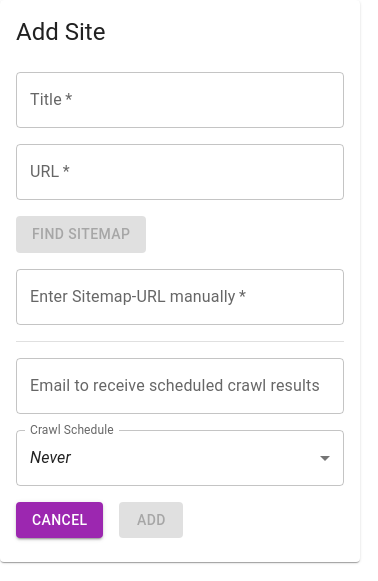
Test: SiteForm Component › enables Add button when form is valid
Type "New Site" into the field labelled "Title *". click: (180, 100)
box: [16, 72, 344, 128]
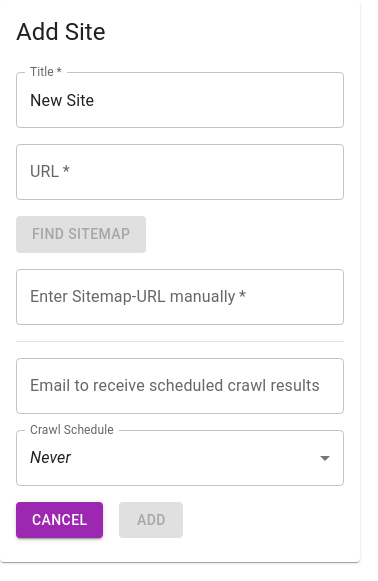
Type "https://newsite.com" into the field labelled "URL *". click: (180, 172)
box: [16, 144, 344, 200]
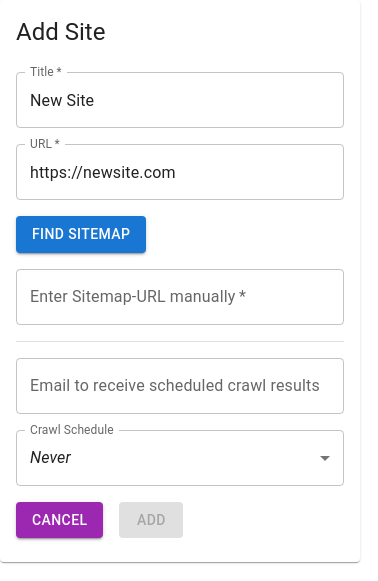
Type "https://newsite.com/sitemap.xml" into the text box labelled "Enter Sitemap-URL manually *". click: (180, 296)
box: [30, 285, 330, 308]
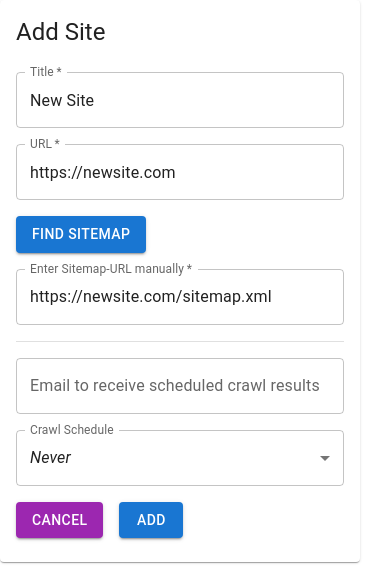
Result: the button "Add" is enabled at [120, 502, 184, 538]
